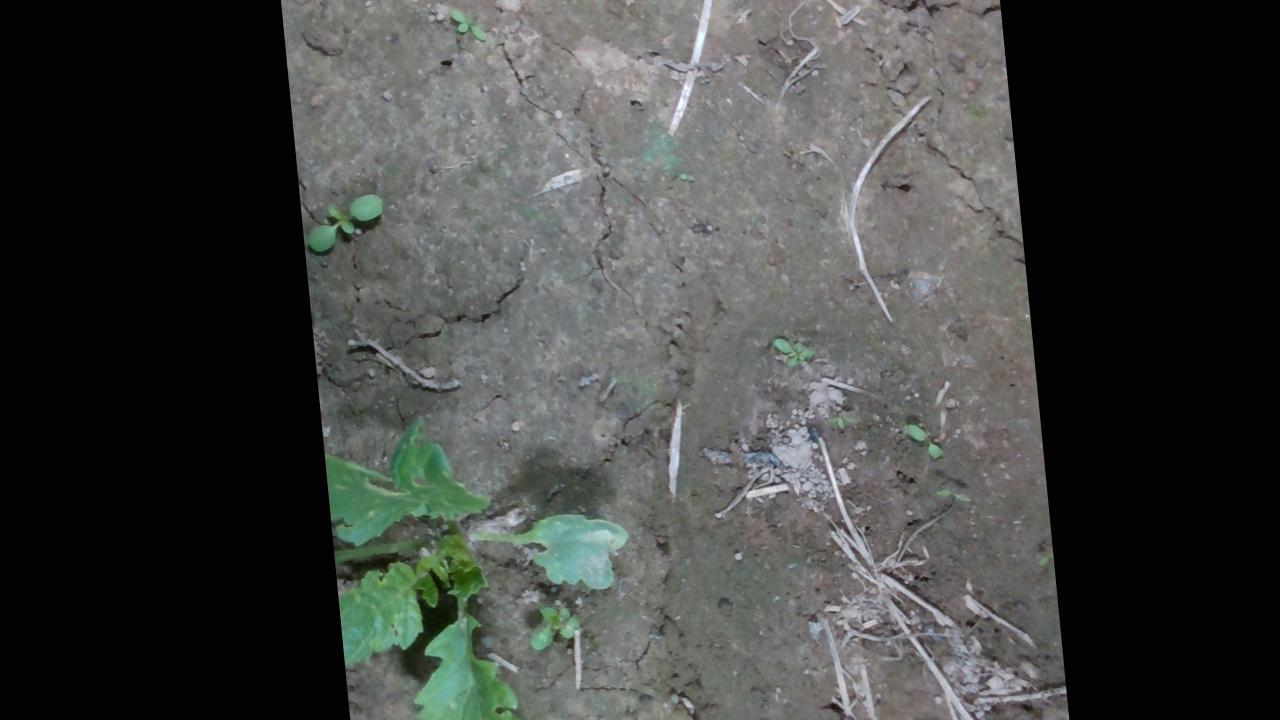weed: (299, 191, 384, 253), (444, 5, 489, 41), (895, 420, 936, 459), (924, 488, 963, 502)
